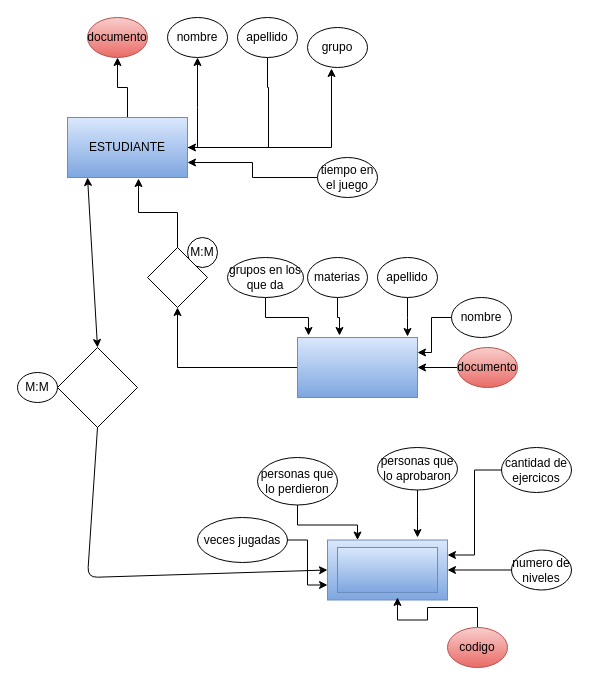
Image size: 589x685. Some labels were removed from this diagram. Here are the shapes that lost their labels. From the top down, the box of each, then its label:
(146, 246, 208, 308): califica
(56, 346, 138, 428): realiza
(296, 336, 418, 398): PROFESOR
(336, 546, 438, 592): NIVELES
